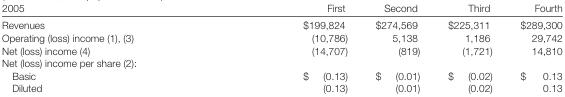table: (1, 0, 561, 93)
table column: (1, 0, 217, 93), (217, 0, 360, 93), (360, 0, 433, 93), (433, 0, 505, 93), (505, 0, 561, 93)
table column header: (1, 0, 561, 15)
table projected row header: (1, 56, 561, 68)
table row: (1, 0, 561, 15), (1, 15, 561, 30), (1, 30, 561, 43), (1, 43, 561, 56), (1, 68, 561, 81), (1, 56, 561, 68), (1, 81, 561, 93)
